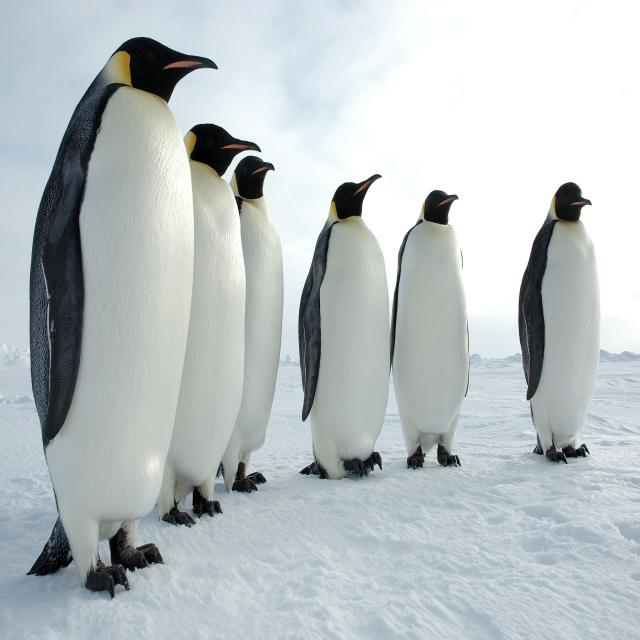penguin: (28, 38, 217, 596), (158, 124, 260, 526), (299, 175, 390, 479), (519, 182, 601, 462), (391, 190, 469, 468), (221, 156, 283, 492)
